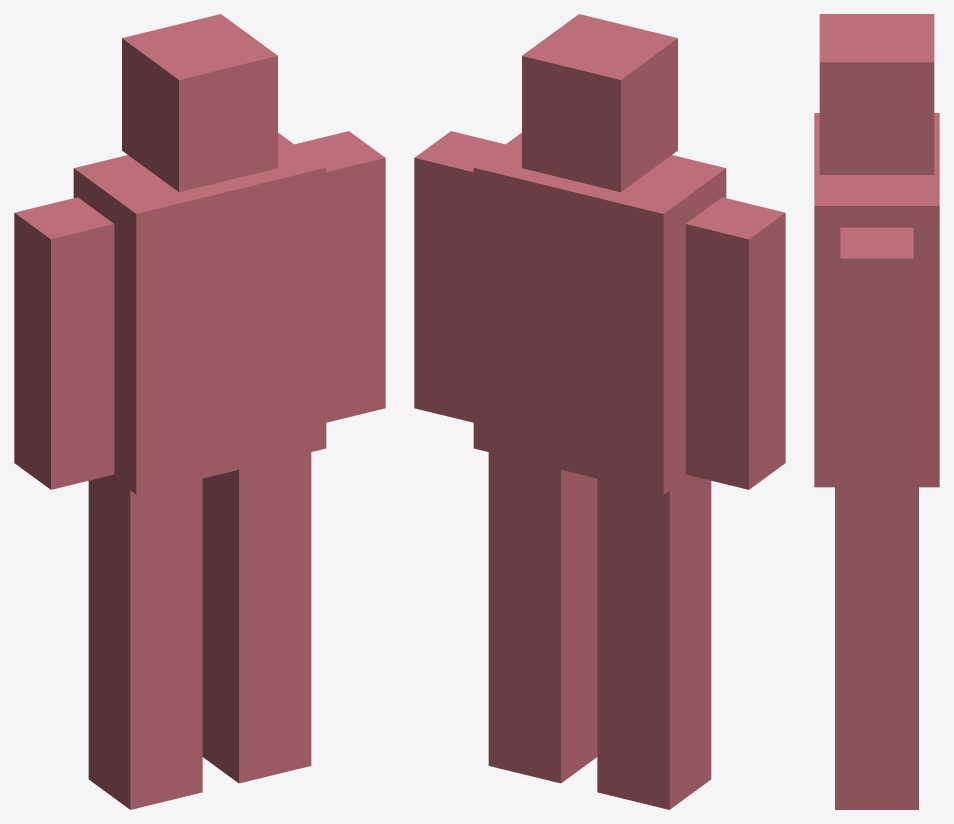
Rendered from jarl_frosthold.glb.
The picture shows the model from 3 angles, left to right: view 1: azimuth 30°, elevation 25°; view 2: azimuth 150°, elevation 25°; view 3: azimuth 270°, elevation 25°; orthographic projection.
Parts seen in each view (by area): view 1: jarl_frosthold; view 2: jarl_frosthold; view 3: jarl_frosthold.
Part boxes in pixels (x1=…): jarl_frosthold: x1=14, y1=14, x2=385, y2=809; jarl_frosthold: x1=414, y1=14, x2=785, y2=809; jarl_frosthold: x1=814, y1=14, x2=939, y2=809.
Size of the model in its own units: 0.851 by 1.76 by 0.276.
